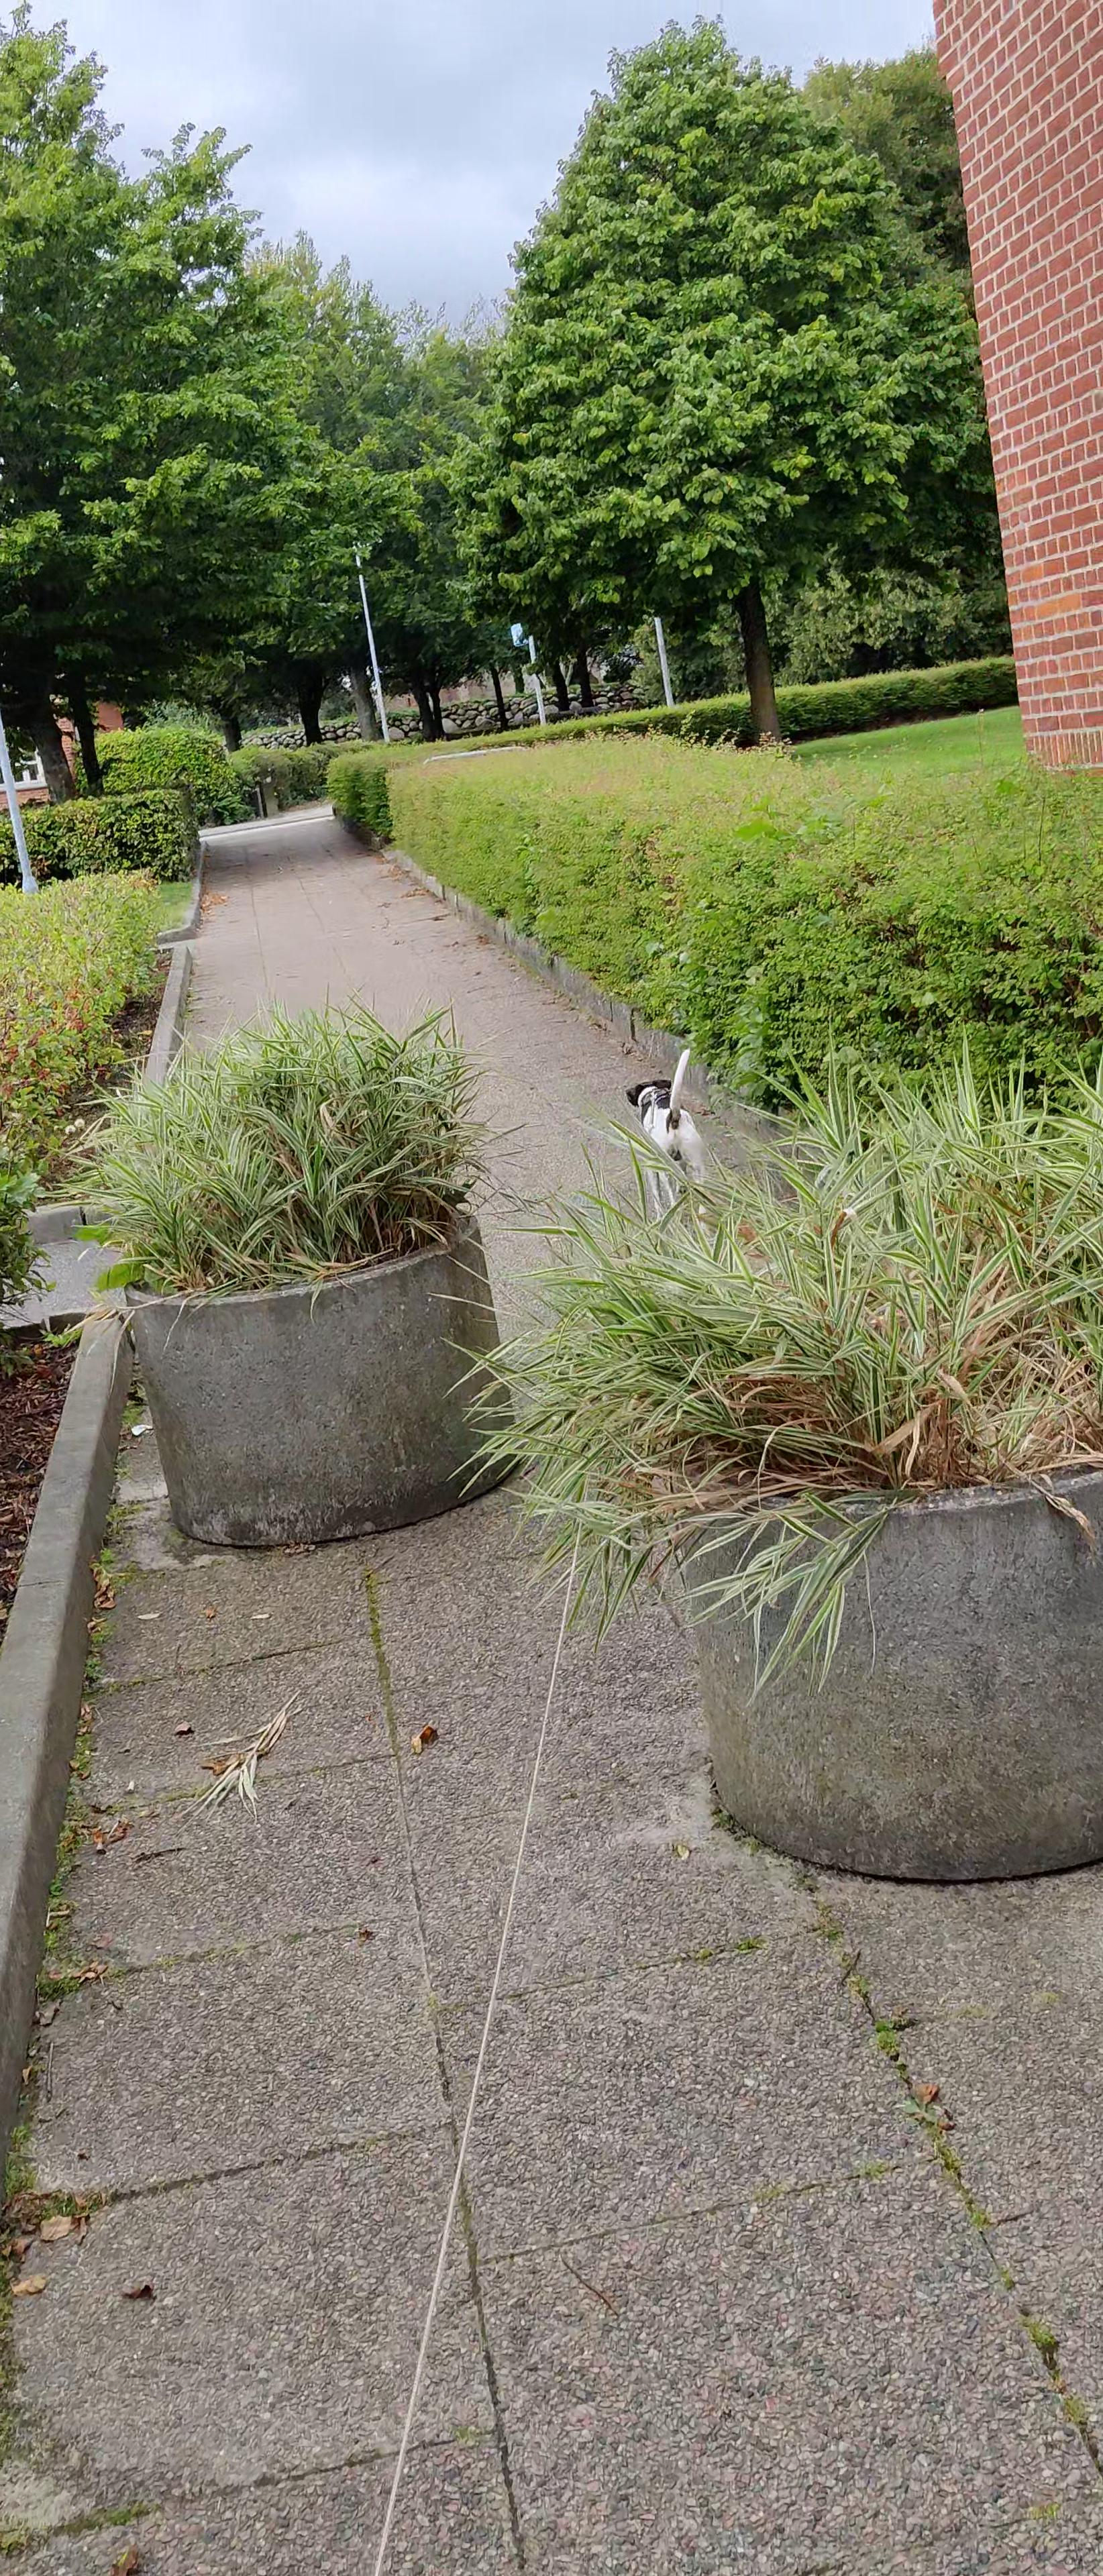Dog: (621, 1043, 712, 1235)
